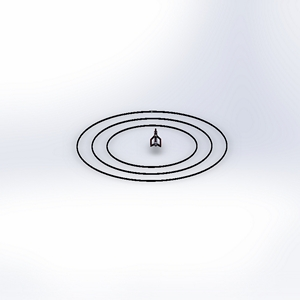circle: (68, 106, 233, 188)
submarine: (143, 126, 170, 154)
